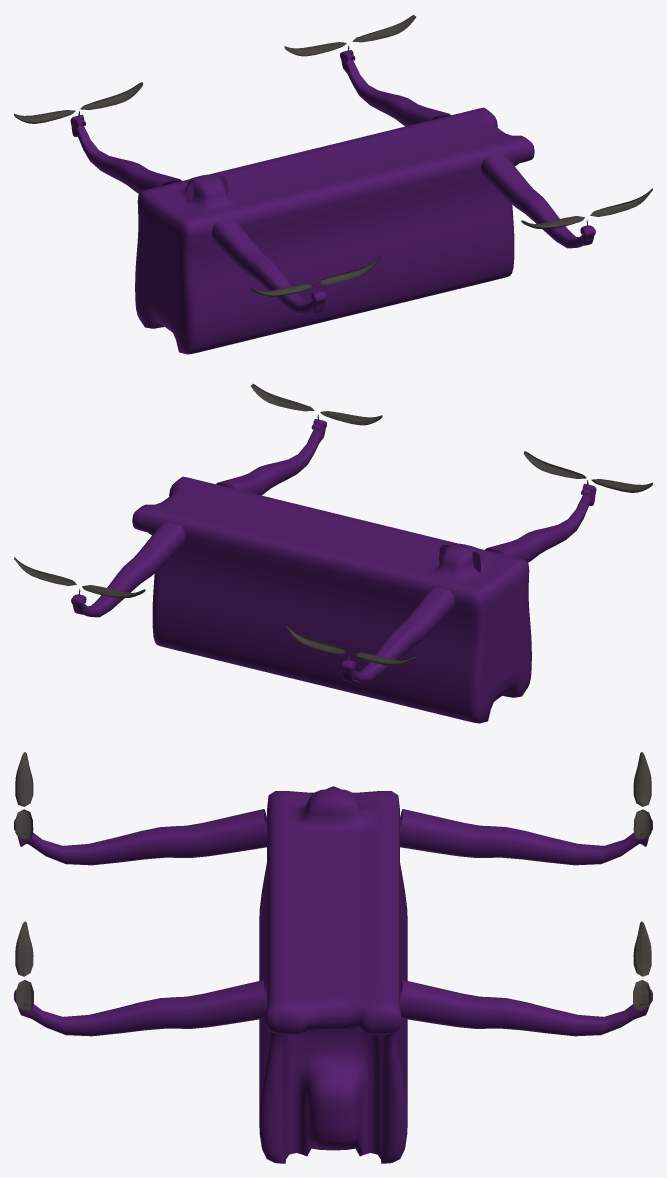
Rendered from purpleDroneFinal.fbx.
3 renders of one model, top to bottom at view 1: azimuth 30°, elevation 25°; view 2: azimuth 150°, elevation 25°; view 3: azimuth 270°, elevation 25°, orthographic. The views are drawn at different scales.
Parts seen in each view (by area): view 1: Cube.004; view 2: Cube.004; view 3: Cube.004.
Boxes of the visible parts, x1=… form: Cube.004: x1=14, y1=15, x2=652, y2=354; Cube.004: x1=14, y1=384, x2=652, y2=723; Cube.004: x1=14, y1=752, x2=652, y2=1163.
Size of the model in its own units: 99.15 by 35.67 by 105.
